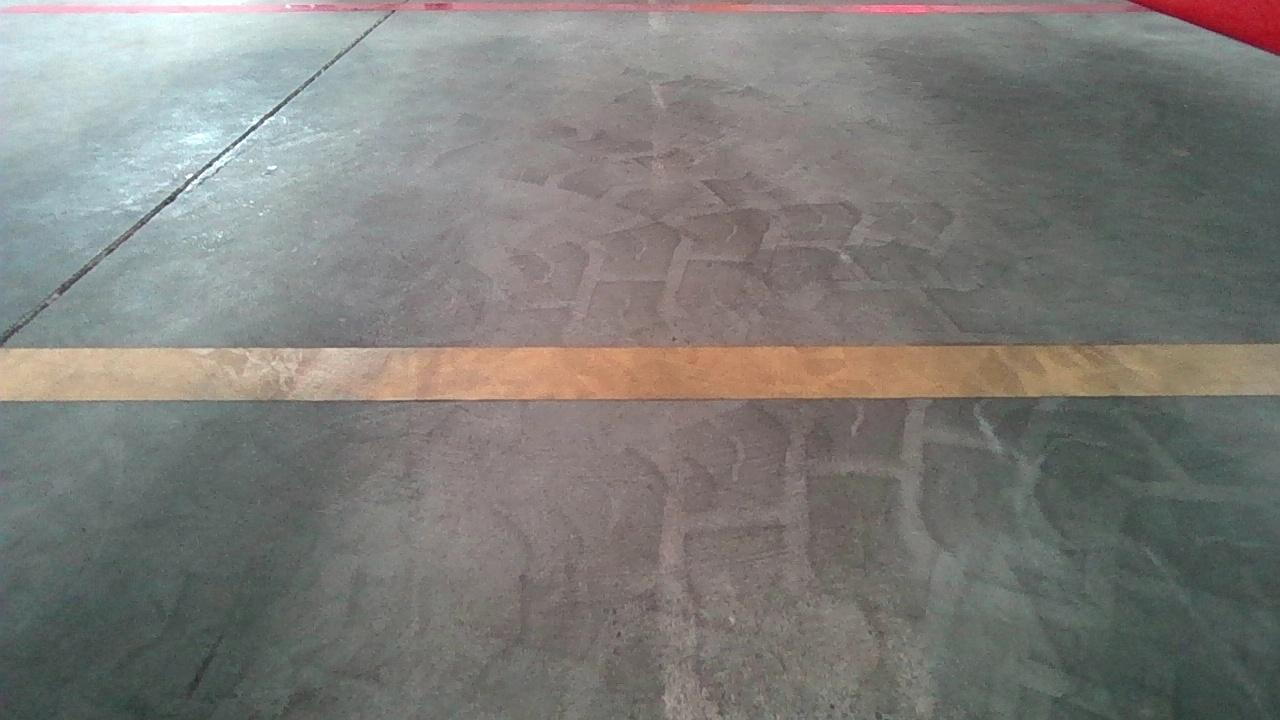yellow_line: (14, 335, 1280, 400)
